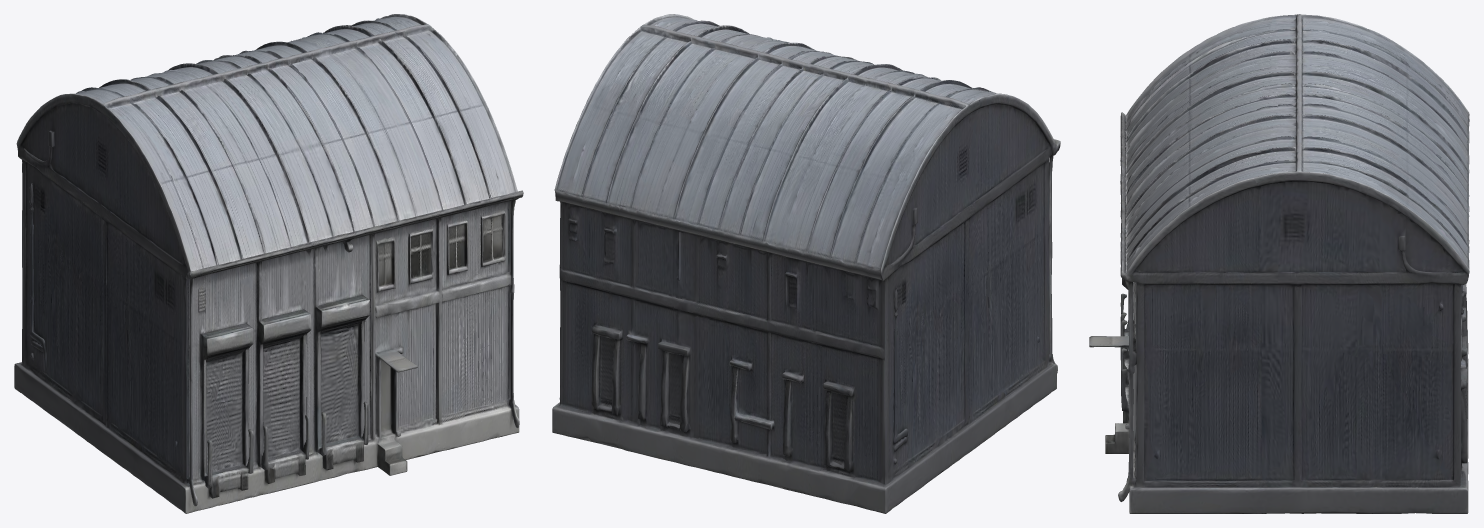
File: predio_galpao.glb
The picture shows the model from 3 angles, left to right: view 1: azimuth 30°, elevation 25°; view 2: azimuth 150°, elevation 25°; view 3: azimuth 270°, elevation 25°; orthographic projection.
Visible parts, largest first — view 1: tripo_node_a7aeb085-944b-4f0b-afaf-c871a8e1f858; view 2: tripo_node_a7aeb085-944b-4f0b-afaf-c871a8e1f858; view 3: tripo_node_a7aeb085-944b-4f0b-afaf-c871a8e1f858.
Part boxes in pixels (x1=…): tripo_node_a7aeb085-944b-4f0b-afaf-c871a8e1f858: x1=14, y1=14, x2=523, y2=513; tripo_node_a7aeb085-944b-4f0b-afaf-c871a8e1f858: x1=552, y1=14, x2=1060, y2=513; tripo_node_a7aeb085-944b-4f0b-afaf-c871a8e1f858: x1=1089, y1=14, x2=1469, y2=513.
Bounding box in the file's own units: 1 × 1 × 1.
Materials: 1 (1 with a texture image).
